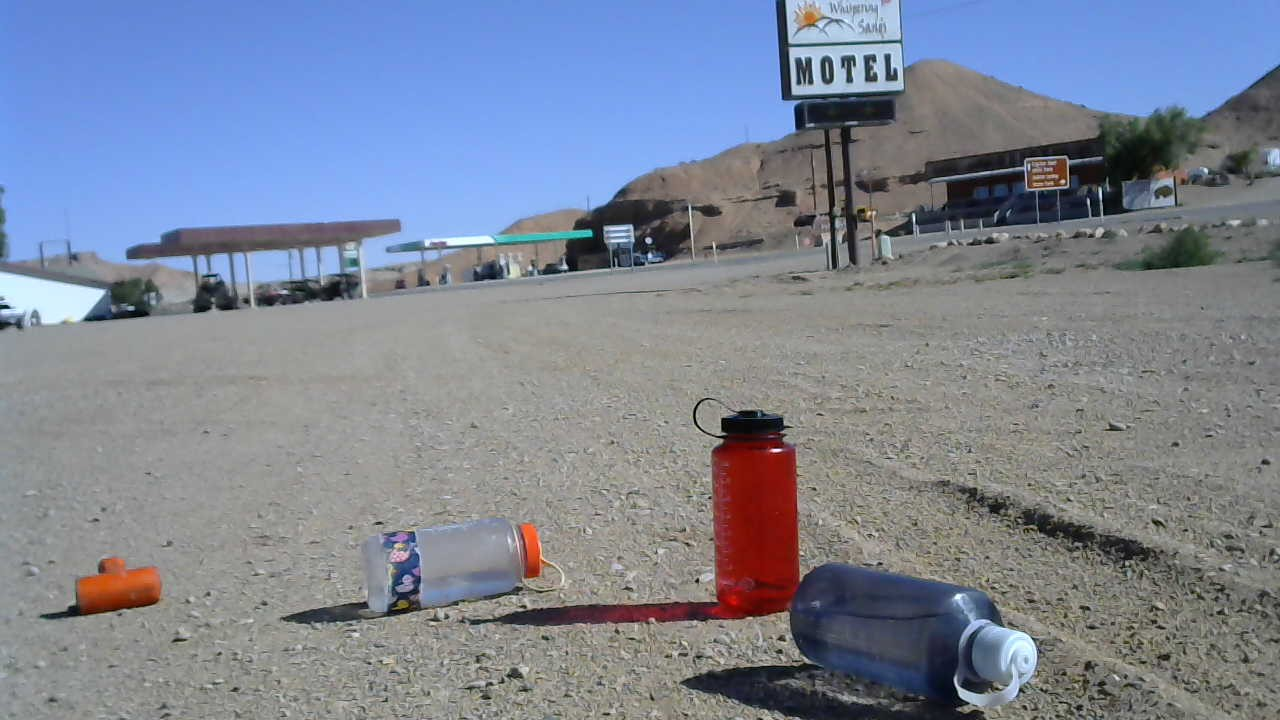bottle: (782, 558, 1035, 710), (687, 391, 805, 612), (356, 517, 571, 615)
hammer: (68, 550, 167, 621)
